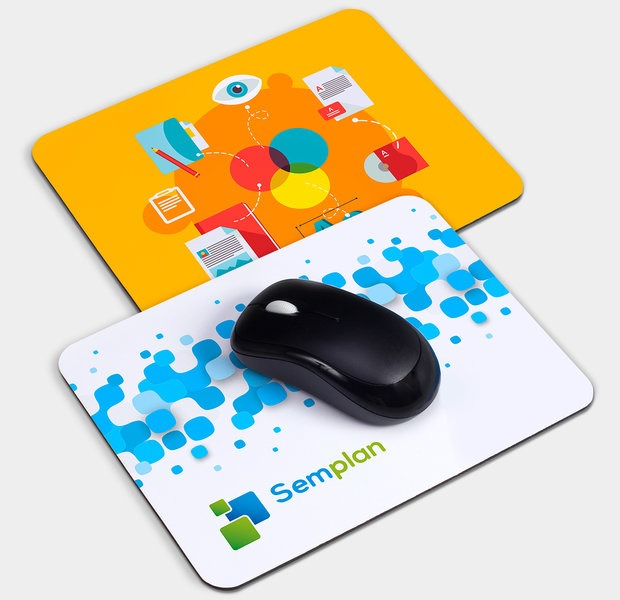mouse: (227, 278, 443, 424)
